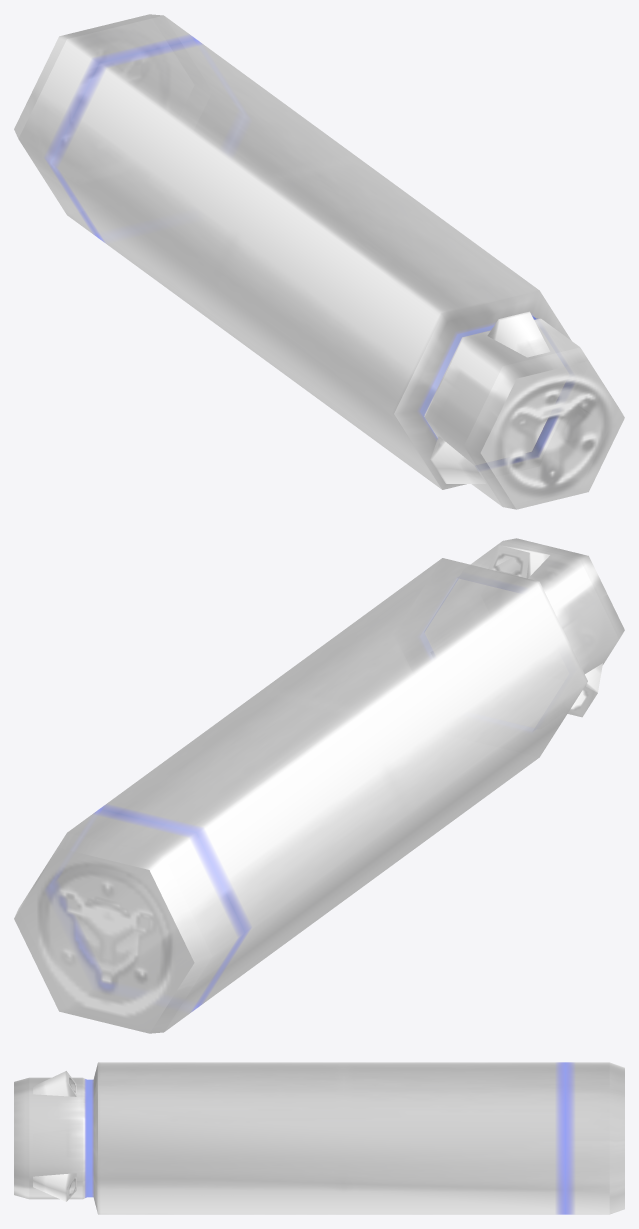
The picture shows the model from 3 angles, top to bottom: view 1: azimuth 30°, elevation 25°; view 2: azimuth 150°, elevation 25°; view 3: azimuth 270°, elevation 25°; orthographic projection. The views are drawn at different scales.
Visible parts, largest first — view 1: layer_00_oe0916U; view 2: layer_00_oe0916U; view 3: layer_00_oe0916U.
Boxes of the visible parts, box(x1,y1,x2,y2) form: layer_00_oe0916U: box(14, 14, 624, 509); layer_00_oe0916U: box(14, 538, 624, 1033); layer_00_oe0916U: box(14, 1062, 624, 1214).
Size of the model in its own units: 2 by 1.77 by 8.
Materials: 1 (1 with a texture image).
